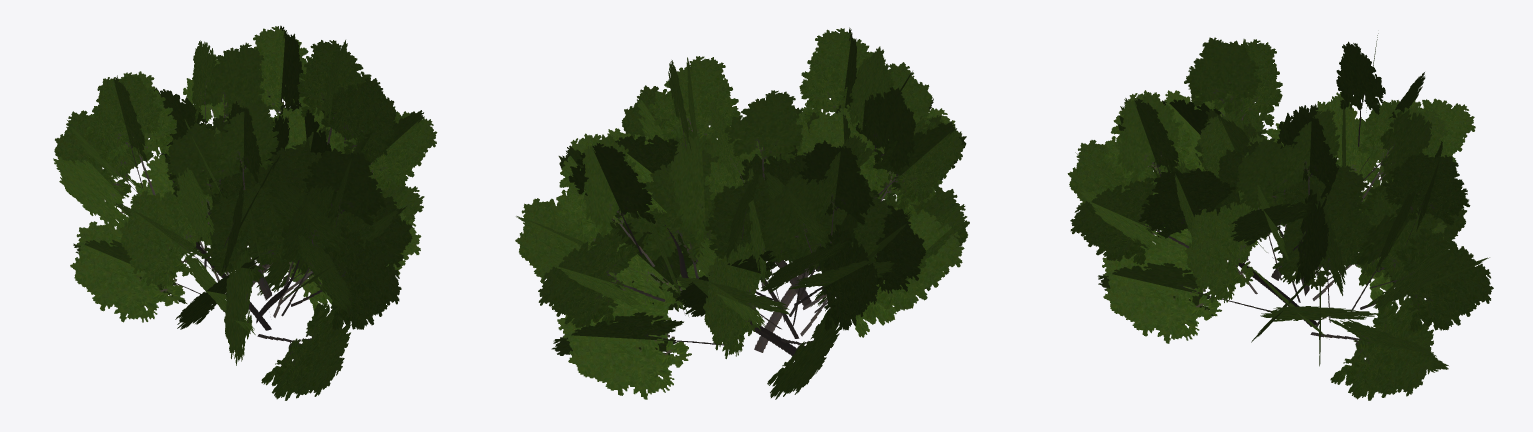
The model's file is orange10_tex.obj.
The picture shows the model from 3 angles, left to right: view 1: azimuth 30°, elevation 25°; view 2: azimuth 150°, elevation 25°; view 3: azimuth 270°, elevation 25°; orthographic projection. The views are drawn at different scales.
Visible parts, largest first — view 1: material4; view 2: material4; view 3: material4.
Part boxes in pixels (left/top/right/bottom): material4: left=53, top=25, right=437, bottom=400; material4: left=515, top=27, right=969, bottom=399; material4: left=1067, top=33, right=1493, bottom=400.
Bounding box in the file's own units: 84.32 × 68.79 × 93.79.
